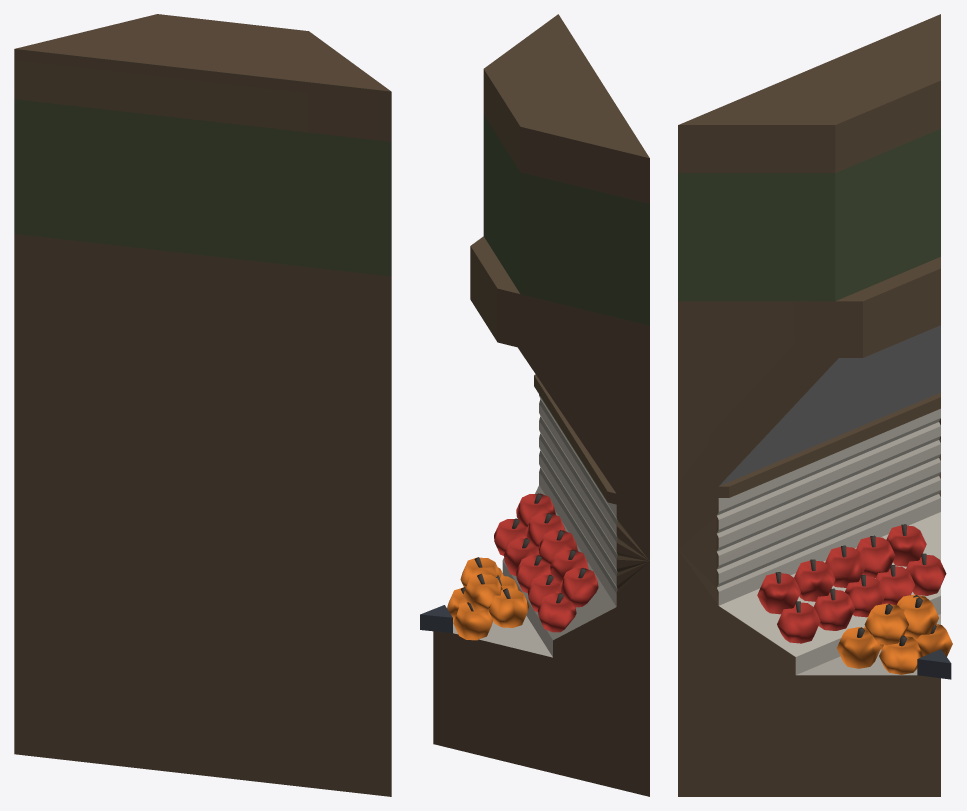
File: SM_fruitShelve_05.glb
3 renders of one model, left to right at view 1: azimuth 30°, elevation 25°; view 2: azimuth 150°, elevation 25°; view 3: azimuth 270°, elevation 25°, orthographic. The views are drawn at different scales.
Visible parts, largest first — view 1: SM_fruitShelve_05; view 2: SM_fruitShelve_05; view 3: SM_fruitShelve_05.
Part boxes in pixels (bbox=[...]): SM_fruitShelve_05: bbox=[14, 14, 391, 796]; SM_fruitShelve_05: bbox=[420, 14, 649, 796]; SM_fruitShelve_05: bbox=[678, 14, 952, 796].
Bounding box in the file's own units: 1.03 × 2.8 × 1.04.
Materials: 2 (1 with a texture image).
